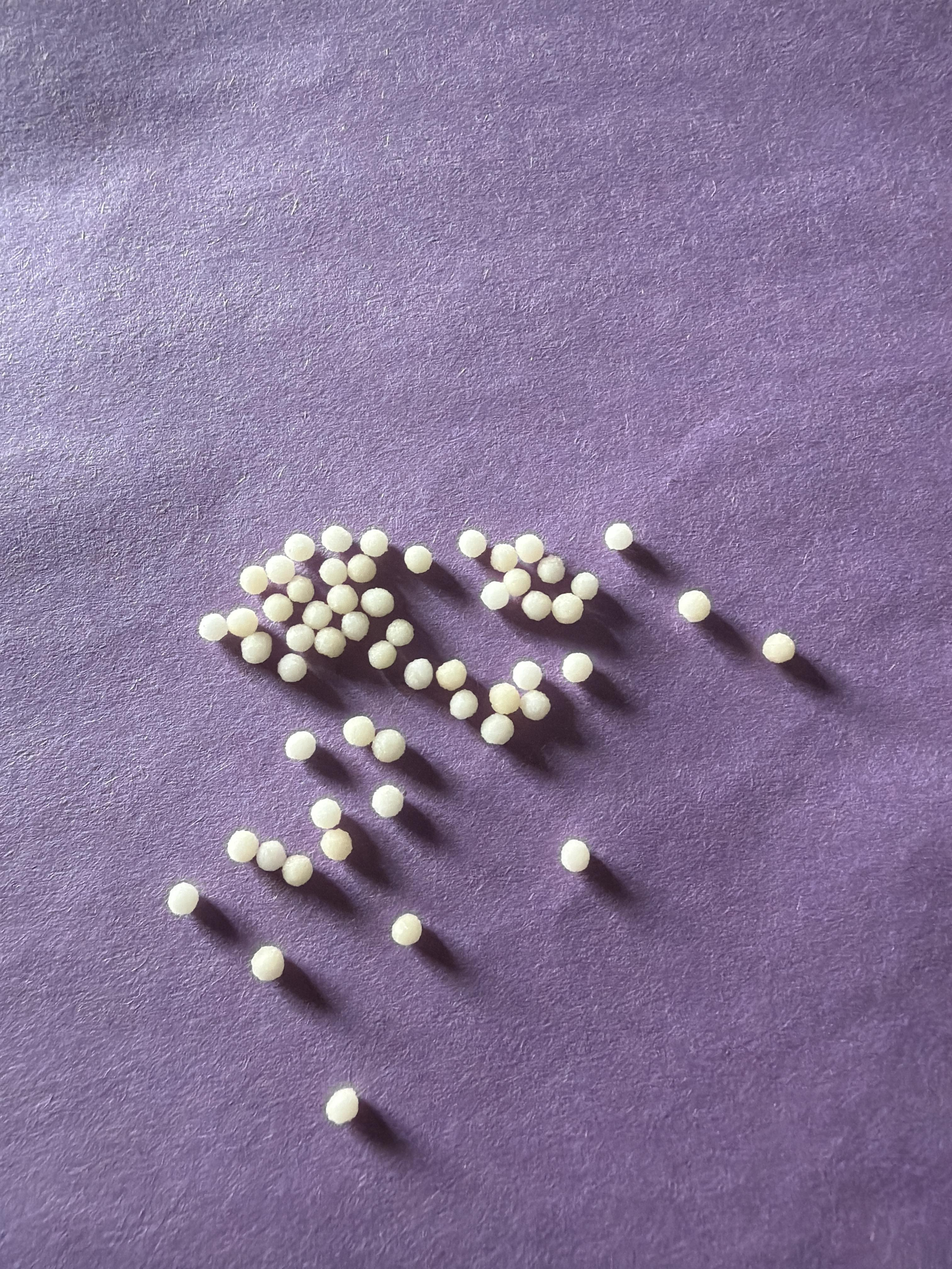pill: (326, 1087, 359, 1125), (251, 945, 284, 981), (371, 729, 405, 763), (677, 589, 711, 623), (371, 784, 404, 818), (226, 829, 259, 862), (480, 713, 514, 745), (320, 827, 352, 861), (762, 632, 795, 664), (167, 882, 199, 915), (241, 630, 272, 664), (314, 626, 346, 658), (435, 659, 467, 691), (281, 855, 313, 887), (391, 913, 422, 946), (560, 839, 590, 873), (360, 588, 394, 618), (310, 798, 341, 830), (489, 682, 520, 714), (344, 715, 375, 747), (520, 690, 551, 721), (285, 730, 316, 761), (562, 652, 593, 683), (227, 607, 258, 638), (256, 840, 286, 872), (326, 584, 358, 614), (552, 593, 582, 624), (262, 593, 293, 623), (521, 591, 552, 621), (512, 661, 543, 691), (265, 554, 295, 585), (302, 600, 333, 630), (404, 658, 433, 690), (347, 554, 377, 584), (277, 653, 307, 683), (449, 689, 478, 720), (284, 533, 315, 562), (515, 533, 544, 563), (239, 566, 269, 595), (458, 529, 487, 559), (319, 556, 348, 586), (340, 612, 369, 641), (604, 522, 633, 551), (490, 543, 518, 573), (198, 613, 228, 641), (404, 544, 432, 574), (503, 567, 531, 597), (360, 529, 389, 557), (286, 624, 314, 653), (480, 582, 509, 610), (536, 556, 565, 584), (321, 526, 352, 552), (386, 618, 414, 646), (570, 572, 598, 600), (368, 641, 396, 669), (287, 574, 313, 604)
